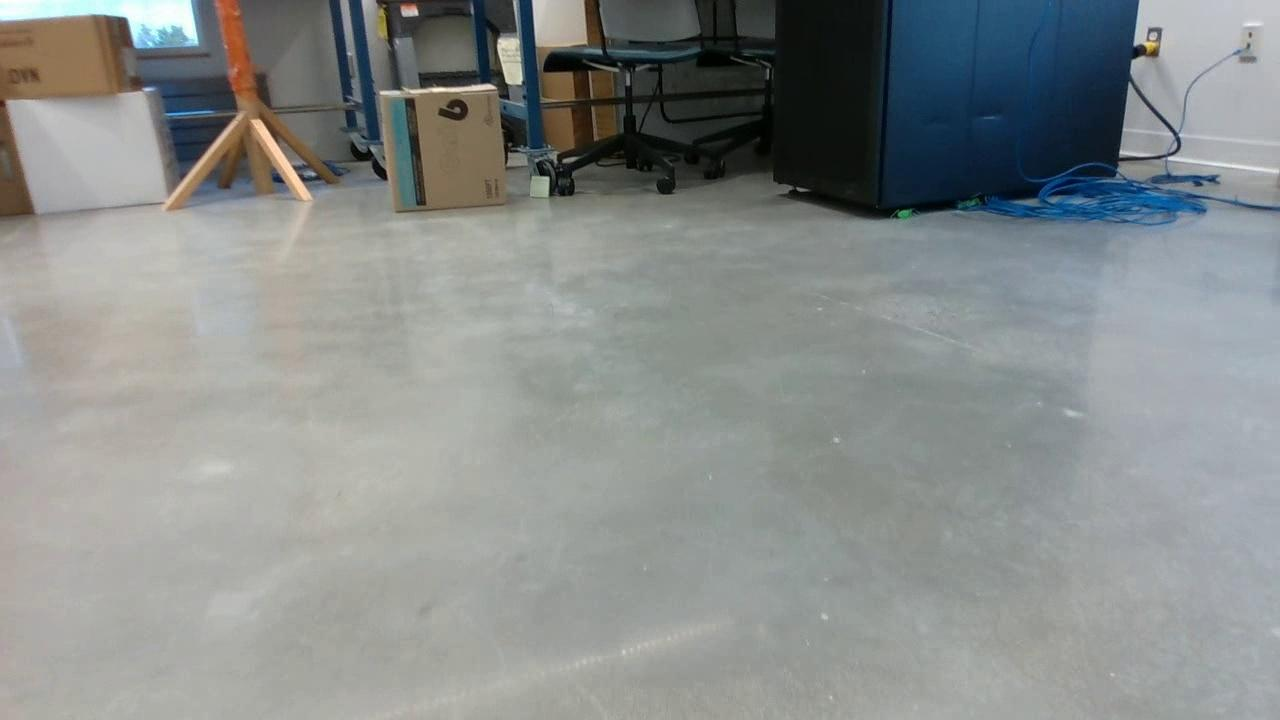grasshopper: (891, 209, 921, 220), (957, 199, 983, 208)
